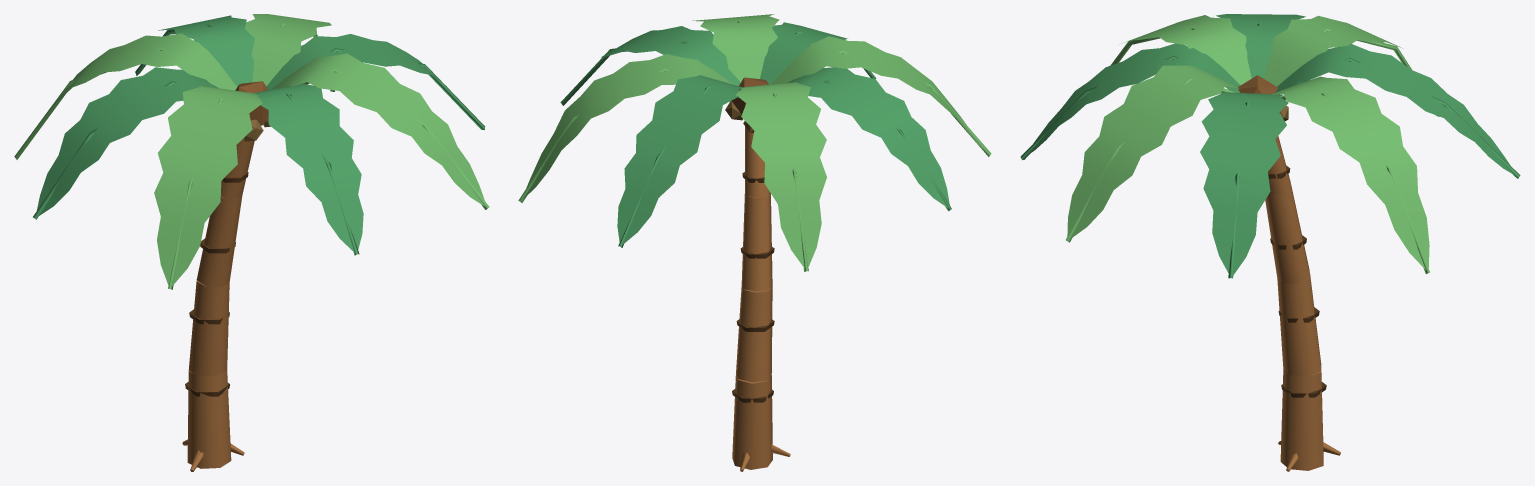
File: coastal-palm.glb
3 views of the same model, side by side, from view 1: azimuth 30°, elevation 25°; view 2: azimuth 150°, elevation 25°; view 3: azimuth 270°, elevation 25° (orthographic). The views are drawn at different scales.
Visible parts, largest first — view 1: Merged_foliage-light, Merged_foliage, Merged_bark, Merged_palm-trunk-ring, Merged_palm-crown; view 2: Merged_foliage-light, Merged_foliage, Merged_bark, Merged_palm-trunk-ring; view 3: Merged_foliage-light, Merged_foliage, Merged_bark, Merged_palm-trunk-ring.
Part boxes in pixels (bbox=[...]): Merged_foliage-light: bbox=[14, 14, 489, 289]; Merged_foliage: bbox=[33, 15, 485, 255]; Merged_bark: bbox=[182, 139, 254, 471]; Merged_palm-trunk-ring: bbox=[185, 172, 248, 396]; Merged_palm-crown: bbox=[235, 81, 268, 125]; Merged_foliage-light: bbox=[518, 14, 991, 271]; Merged_foliage: bbox=[560, 22, 951, 247]; Merged_bark: bbox=[732, 126, 790, 471]; Merged_palm-trunk-ring: bbox=[732, 172, 774, 402]; Merged_foliage-light: bbox=[1066, 15, 1439, 273]; Merged_foliage: bbox=[1020, 14, 1520, 278]; Merged_bark: bbox=[1265, 136, 1340, 471]; Merged_palm-trunk-ring: bbox=[1268, 165, 1326, 397].
Size of what is drawn, in the model's own units: 5.1 by 4.64 by 5.02.
